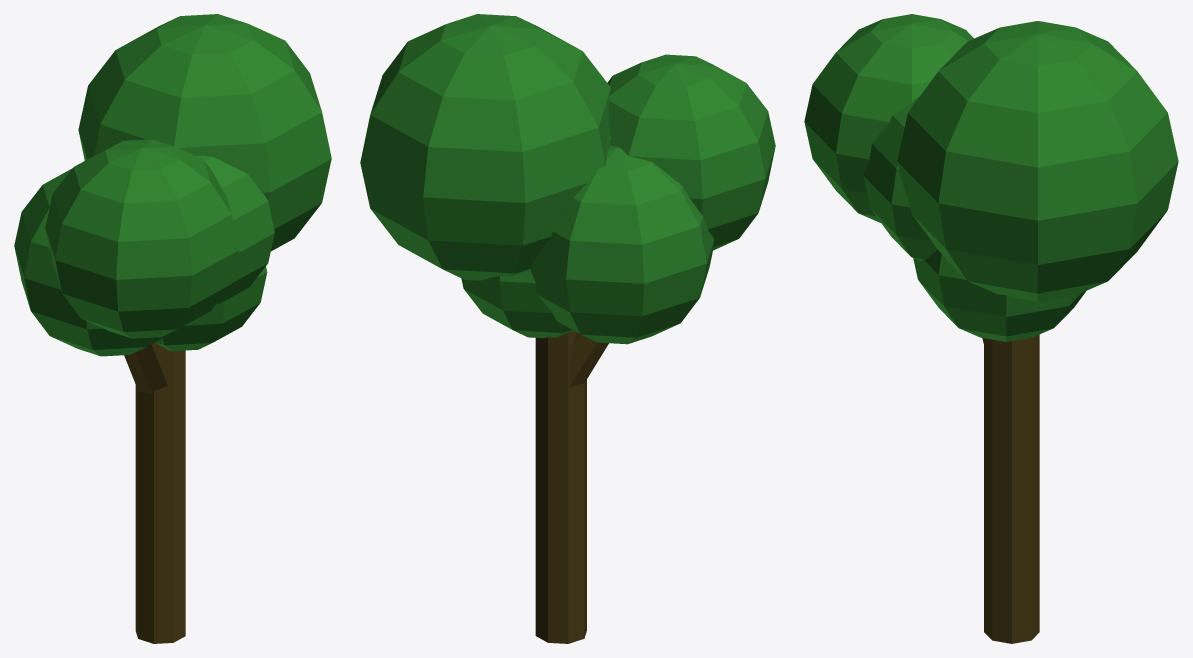
The model's file is tree5.fbx.
3 views of the same model, side by side, from view 1: azimuth 30°, elevation 25°; view 2: azimuth 150°, elevation 25°; view 3: azimuth 270°, elevation 25° (orthographic). The views are drawn at different scales.
Visible parts, largest first — view 1: tree4, tronc_3_4_13; view 2: tree4, tronc_3_4_13; view 3: tree4, tronc_3_4_13.
Boxes of the visible parts, x1,y1,x2,y2 form: tree4: (14, 14, 331, 393); tronc_3_4_13: (135, 350, 185, 643); tree4: (360, 14, 775, 387); tronc_3_4_13: (535, 331, 586, 643); tree4: (804, 14, 1178, 343); tronc_3_4_13: (984, 334, 1039, 643).
Bounding box in the file's own units: 11.3 × 19.63 × 10.6.
